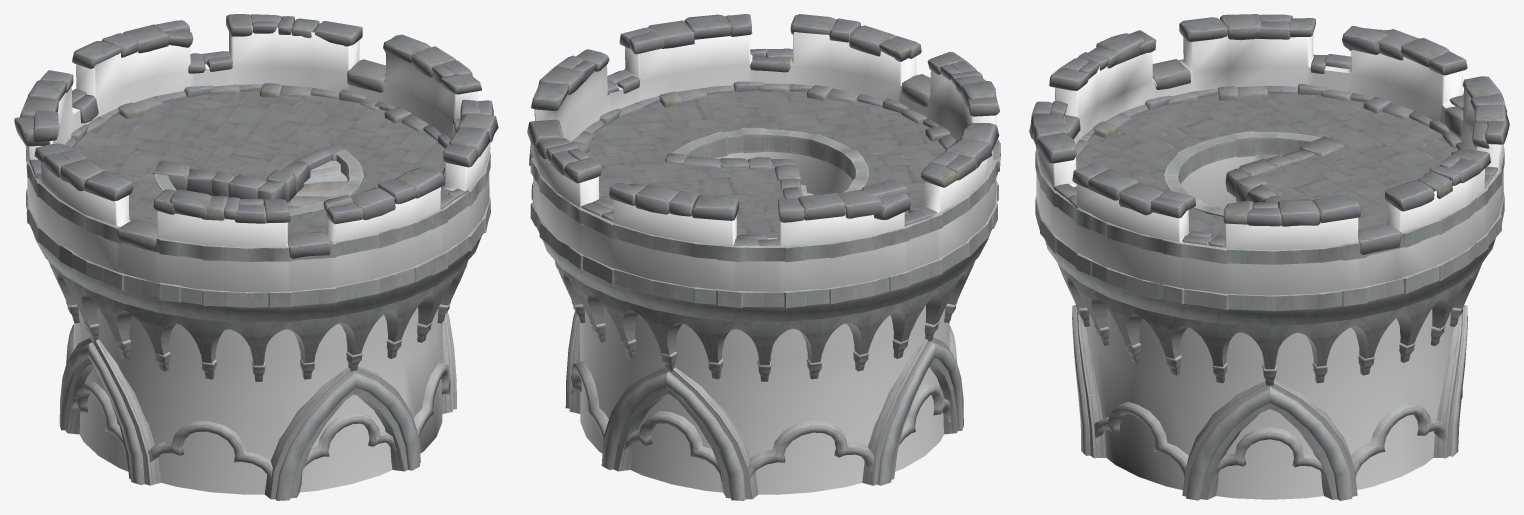
Rendered from SM_TowerB_Top_01.fbx.
The picture shows the model from 3 angles, left to right: view 1: azimuth 30°, elevation 25°; view 2: azimuth 150°, elevation 25°; view 3: azimuth 270°, elevation 25°; orthographic projection.
Parts seen in each view (by area): view 1: SM_TowerB_Top_01_LOD0; view 2: SM_TowerB_Top_01_LOD0; view 3: SM_TowerB_Top_01_LOD0.
Boxes of the visible parts, box(x1,y1,x2,y2) form: SM_TowerB_Top_01_LOD0: box(14, 14, 498, 500); SM_TowerB_Top_01_LOD0: box(527, 14, 1000, 500); SM_TowerB_Top_01_LOD0: box(1029, 14, 1509, 500).
Size of what is drawn, in the model's own units: 10.31 by 7.38 by 10.33.
